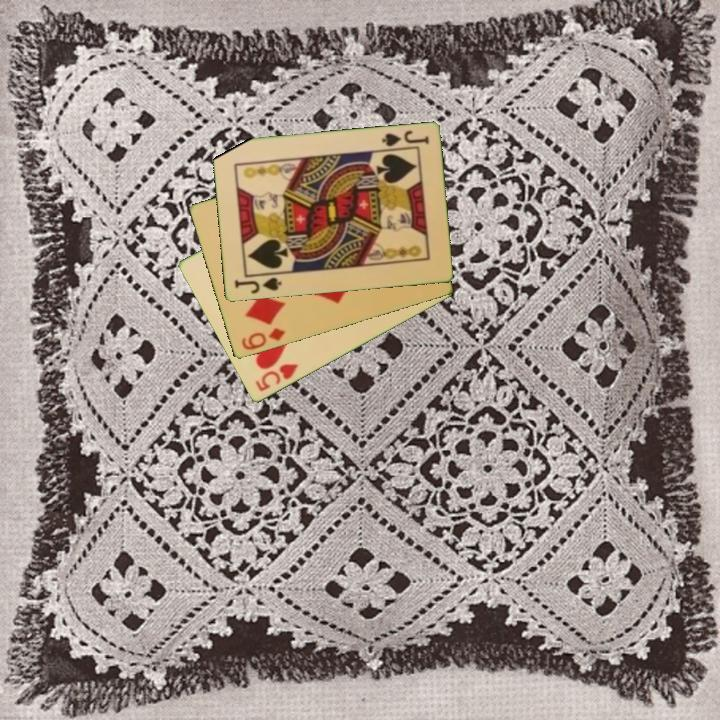5h: (251, 360, 300, 395)
6d: (238, 324, 288, 353)
Js: (378, 127, 432, 152), (231, 274, 284, 297)
